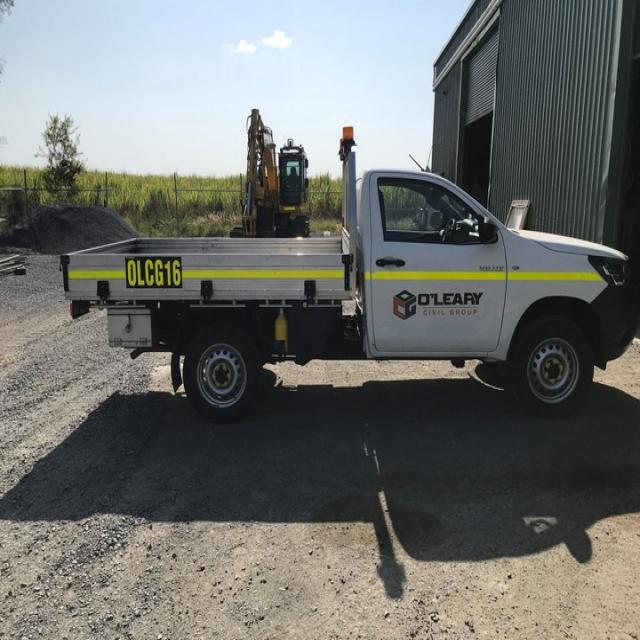light_vehicle: (54, 124, 636, 424)
